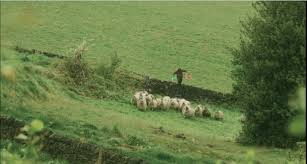sheep: (133, 88, 148, 108), (169, 97, 183, 113), (182, 102, 194, 120), (147, 94, 159, 109), (199, 106, 211, 120), (214, 109, 226, 123), (160, 94, 169, 111), (194, 106, 202, 118)
